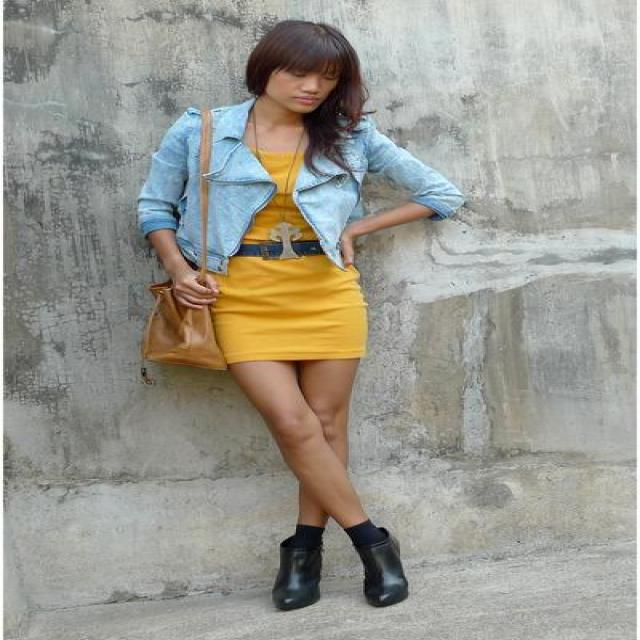bag: (139, 279, 234, 365)
dress: (211, 154, 365, 360)
jacket: (125, 101, 464, 272)
shoe: (272, 534, 402, 612)
